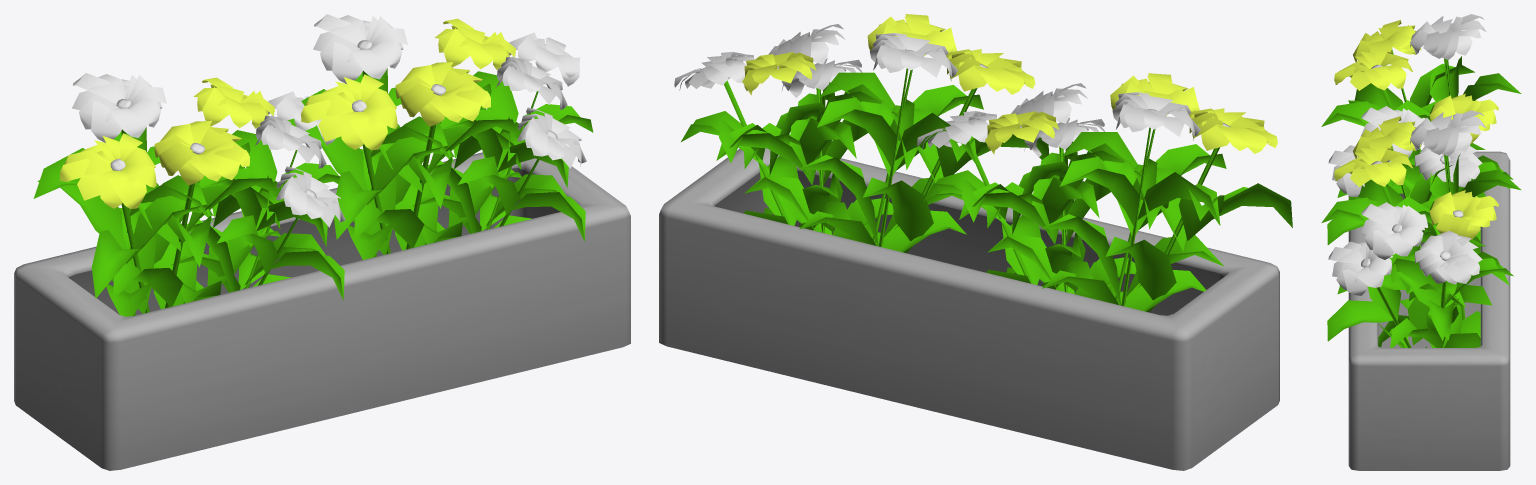
File: Flowers.fbx
3 views of the same model, side by side, from view 1: azimuth 30°, elevation 25°; view 2: azimuth 150°, elevation 25°; view 3: azimuth 270°, elevation 25° (orthographic). The views are drawn at different scales.
Parts seen in each view (by area): view 1: Flowers; view 2: Flowers; view 3: Flowers.
Boxes of the visible parts, x1,y1,x2,y2 form: Flowers: (14,14,630,470); Flowers: (659,14,1292,470); Flowers: (1321,14,1521,470).
Size of the model in its own units: 428 by 239 by 162.
1 material, 1 textured.
